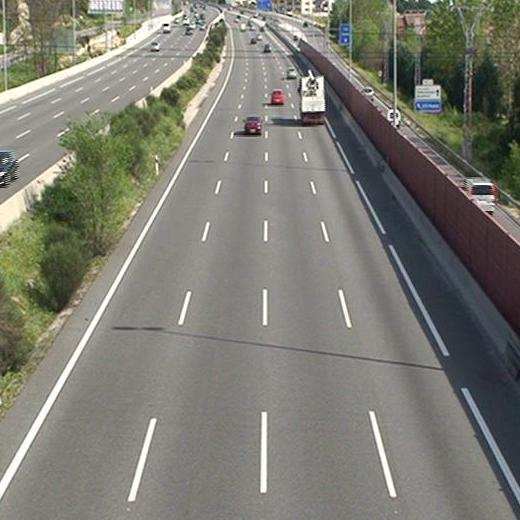car: (244, 116, 263, 135), (270, 89, 283, 105), (286, 66, 299, 79)
small-truck: (300, 71, 327, 123)
